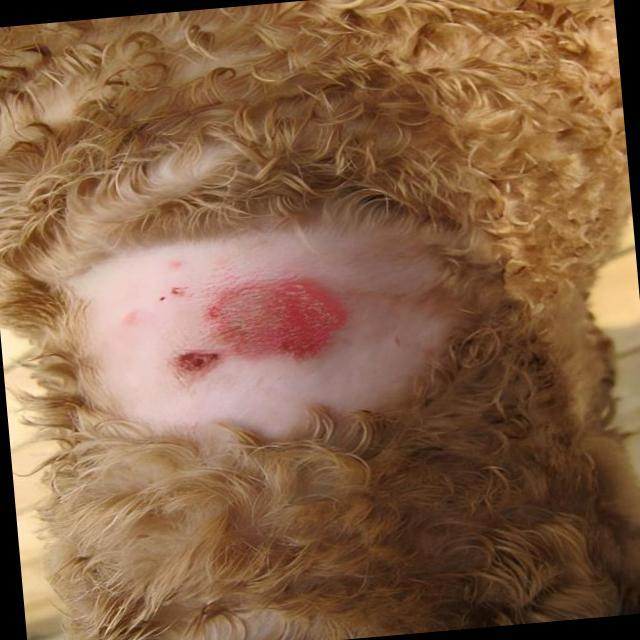allergic dermatitis: (63, 181, 460, 459)
